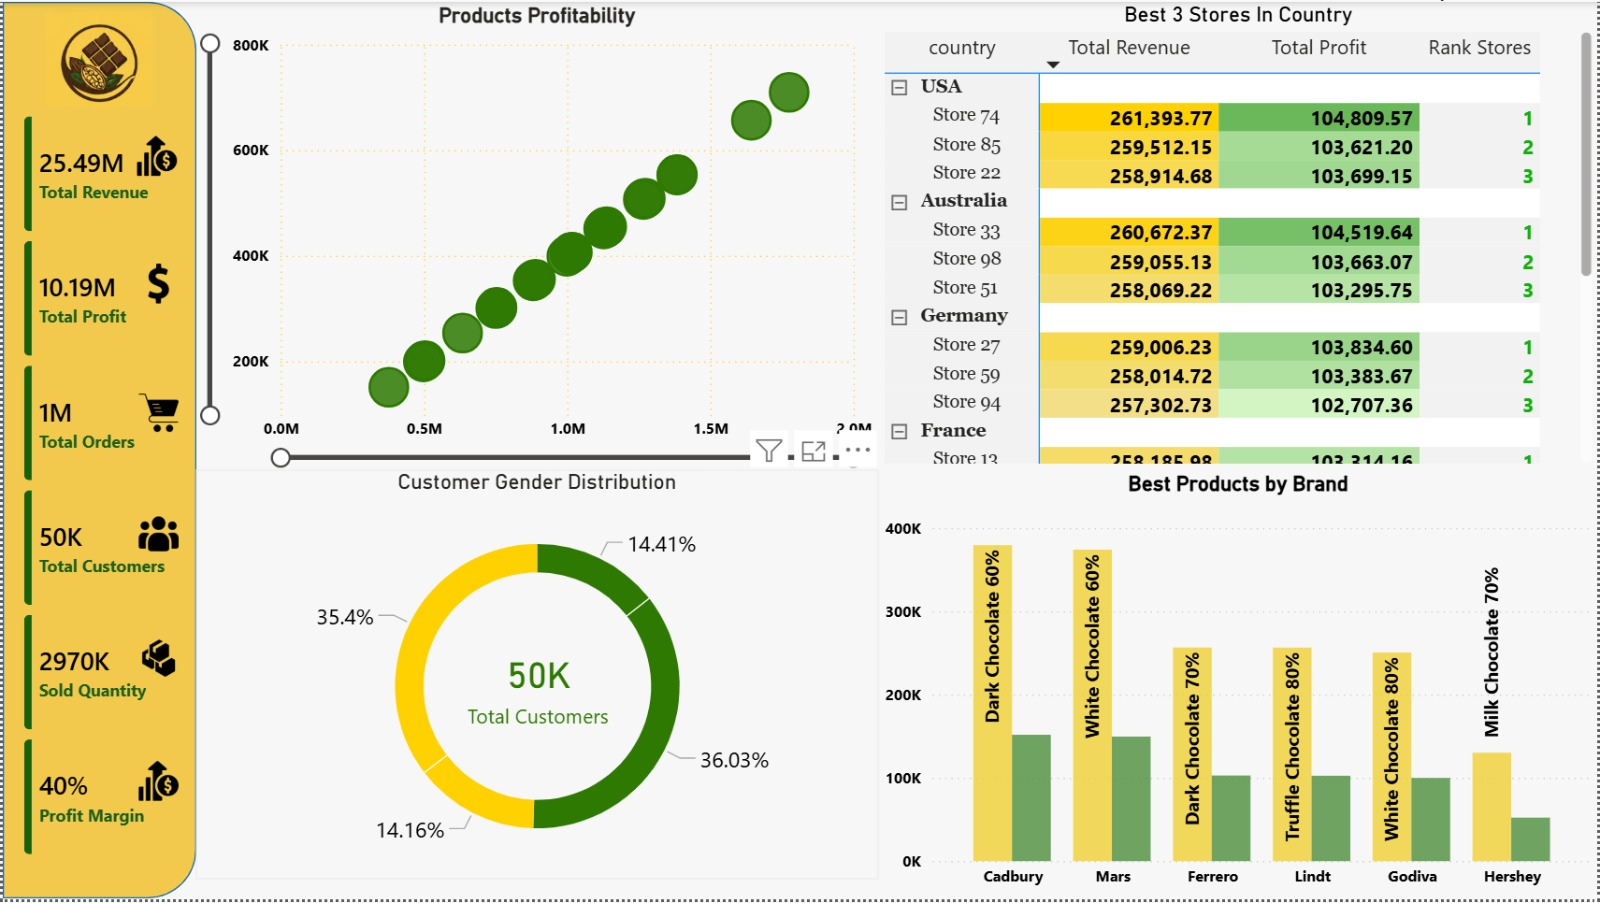

Layout of this report page (visuals, bound fields, positions):
{"tool":"powerbi","page":{"name":"Customer & Product ","canvas":[1280,720],"ordinal":2},"visuals":[{"type":"shape","box":[0,0,155.3,719.5],"z":0},{"type":"cardVisual","fields":{"Data":["Sum(Total_Revenue.TotalRevenue)","Sum(Total_Profit.TotalProfit)","Sum(Total_Orders.TotalOrders)","Sum(Total_Customers.TotalCustomers)","Top_Products_By_Brand.Sold Quantity","Min(Profit_Margin.ProfirMargin)"]},"box":[0,74.3,173.9,630.2],"z":2000},{"type":"image","box":[104.6,410.9,40,32],"z":3000},{"type":"image","box":[104.6,313.9,40,32],"z":4000},{"type":"image","box":[104.6,608.9,40,32],"z":5000},{"type":"image","box":[104.6,210.4,40,32],"z":6000},{"type":"image","box":[104.6,510.6,40,32],"z":7000},{"type":"image","box":[103.3,108.1,40,32],"z":8000},{"type":"scatterChart","title":"Products Profitability","fields":{"X":["Sum(Top_Products_Analysis.TotalRevenue)"],"Y":["Sum(Top_Products_Analysis.TotalProfit)"],"Category":["Top_Products_Analysis.product_name"]},"box":[154.9,1.3,547.5,375.5],"z":9000},{"type":"pivotTable","title":"Best 3 Stores In Country","fields":{"Rows":["Store_Performance_Analysis.country","Store_Performance_Analysis.store_id"],"Values":["Sum(Store_Performance_Analysis.TotalRevenue)","Sum(Store_Performance_Analysis.TotalProfit)","Sum(Store_Performance_Analysis.RankStores)"]},"box":[702.4,0,577.7,375.5],"z":10000},{"type":"donutChart","title":"Customer Gender Distribution","fields":{"Category":["Top_Gender.gender"],"Y":["Sum(Top_Gender.TotalProfit)","Sum(Top_Gender.TotalRevenue)"]},"box":[154.9,375.5,547.5,328.2],"z":11000},{"type":"card","fields":{"Values":["Sum(Total_Customers.TotalCustomers)"]},"box":[349.2,506.8,160.2,84],"z":12000},{"type":"clusteredColumnChart","title":"Best Products by Brand","fields":{"Category":["Top_Products_By_Brand.brand"],"Y":["Sum(Top_Products_By_Brand.TotalRevenue)","Sum(Top_Products_By_Brand.TotalProfit)"]},"box":[702.4,376.8,577.7,342.7],"z":13000},{"type":"image","box":[34.3,4.3,85.7,84.3],"z":13001}]}

Visuals, with their boxes in screenshot pixels (x1, y1, x2, y2), scaled from the page's 1280x720 canvas onto the 1600x903 screenshot:
shape: bbox=[0, 0, 194, 902]
cardVisual - Sum(Total_Revenue.TotalRevenue) x Sum(Total_Profit.TotalProfit): bbox=[0, 93, 217, 884]
image: bbox=[131, 515, 181, 555]
image: bbox=[131, 394, 181, 434]
image: bbox=[131, 764, 181, 804]
image: bbox=[131, 264, 181, 304]
image: bbox=[131, 640, 181, 681]
image: bbox=[129, 136, 179, 176]
"Products Profitability" scatterChart: bbox=[194, 2, 878, 473]
"Best 3 Stores In Country" pivotTable: bbox=[878, 0, 1599, 471]
"Customer Gender Distribution" donutChart: bbox=[194, 471, 878, 883]
card - Sum(Total_Customers.TotalCustomers): bbox=[436, 636, 637, 741]
"Best Products by Brand" clusteredColumnChart: bbox=[878, 473, 1599, 902]
image: bbox=[43, 5, 150, 111]
